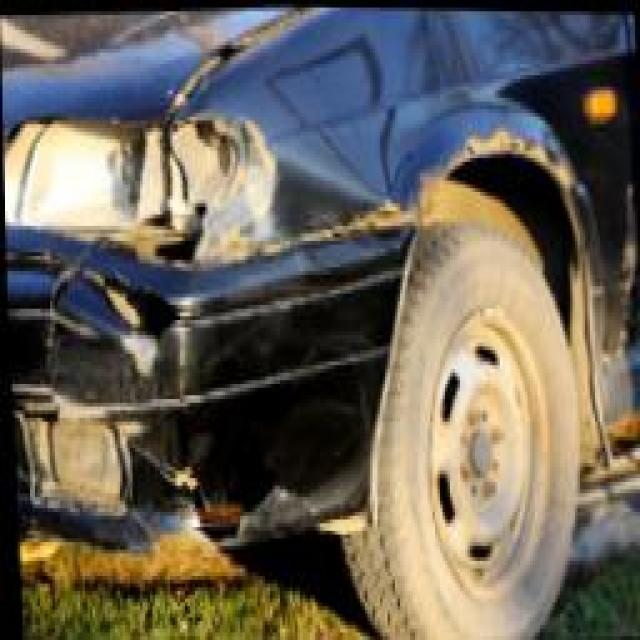Bonnet: (0, 0, 357, 127)
Bumper: (5, 211, 392, 564)
Light: (2, 113, 240, 245)
